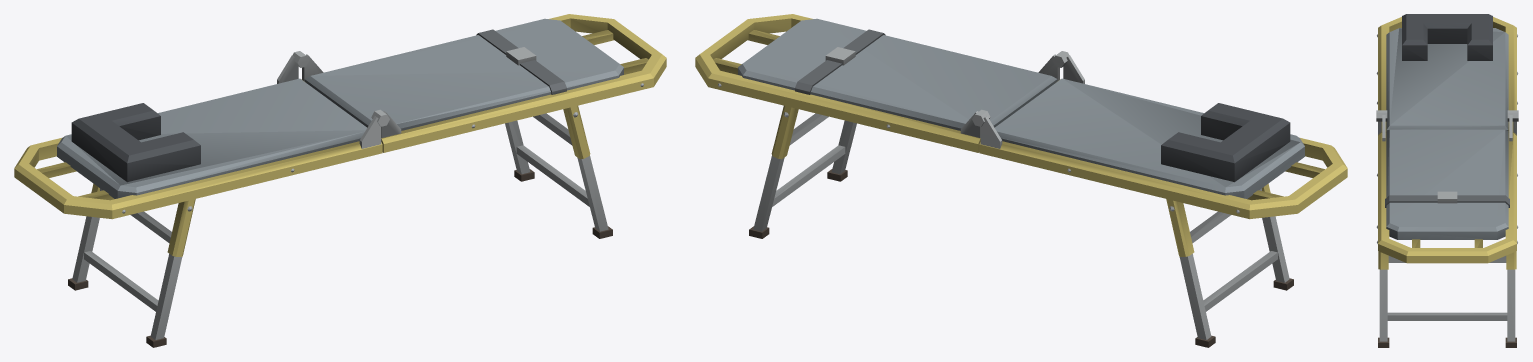
Rendered from stretcher.glb.
3 renders of one model, left to right at view 1: azimuth 30°, elevation 25°; view 2: azimuth 150°, elevation 25°; view 3: azimuth 270°, elevation 25°, orthographic. The views are drawn at different scales.
Parts seen in each view (by area): view 1: stretcher; view 2: stretcher; view 3: stretcher.
Part boxes in pixels (bbox=[...]): stretcher: bbox=[14, 14, 666, 347]; stretcher: bbox=[695, 14, 1347, 347]; stretcher: bbox=[1376, 14, 1518, 347].
Size of the model in its own units: 2.2 by 0.6325 by 0.55.
